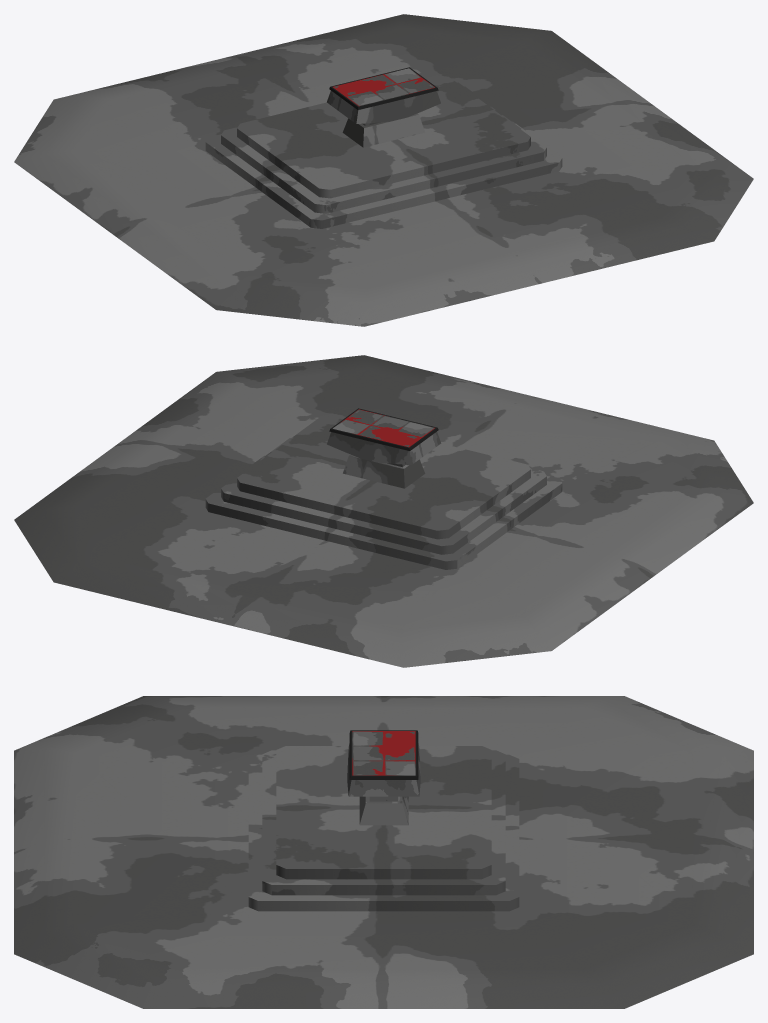
Rendered from altar.fbx.
The picture shows the model from 3 angles, top to bottom: view 1: azimuth 30°, elevation 25°; view 2: azimuth 150°, elevation 25°; view 3: azimuth 270°, elevation 25°; orthographic projection. The views are drawn at different scales.
Parts seen in each view (by area): view 1: Altar-Environment, Altar; view 2: Altar-Environment, Altar; view 3: Altar-Environment, Altar.
Boxes of the visible parts, box(x1,y1,x2,y2) form: Altar-Environment: box(14, 14, 753, 326); Altar: box(326, 67, 440, 147); Altar-Environment: box(14, 355, 753, 667); Altar: box(327, 408, 441, 488); Altar-Environment: box(14, 696, 753, 1008); Altar: box(347, 730, 420, 825).
Bounding box in the file's own units: 1955 × 289 × 1955.
